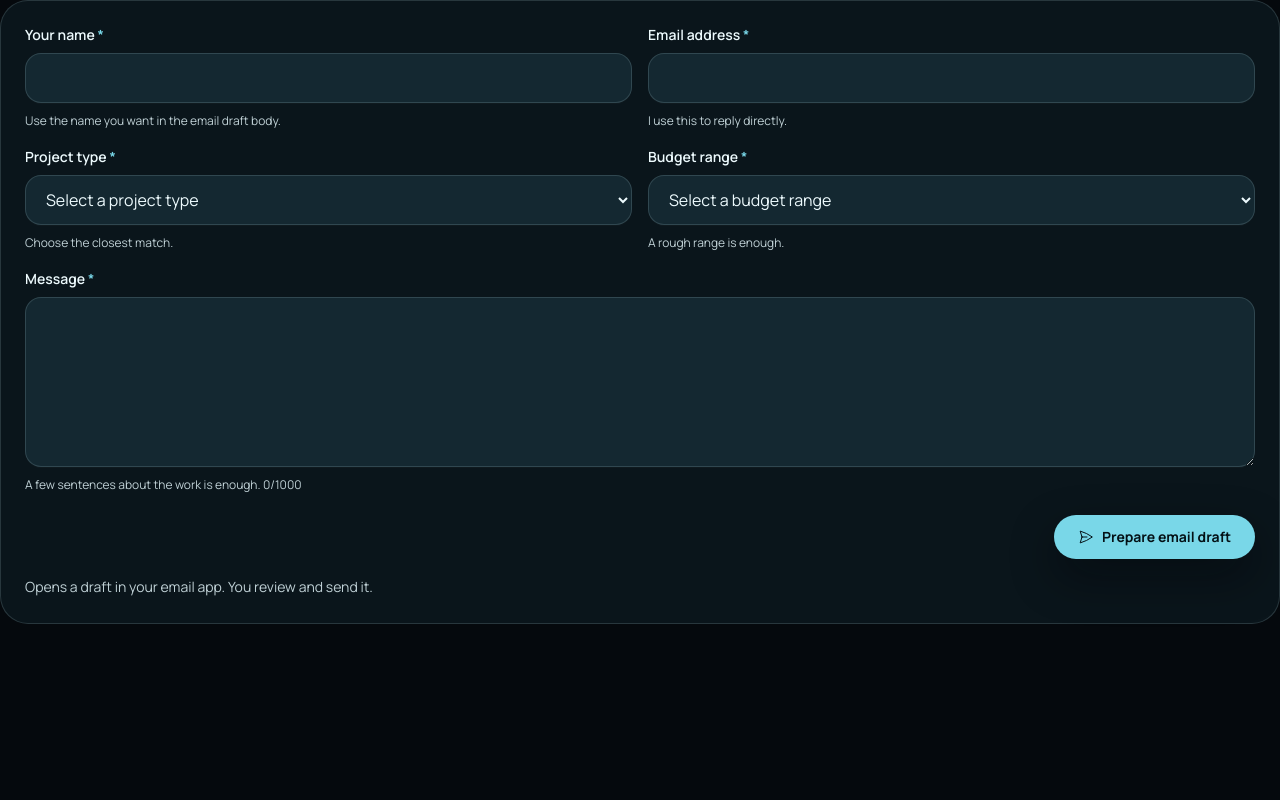
Test case: ContactComposer › clears the validation banner after the last invalid field is fixed
Submit the form
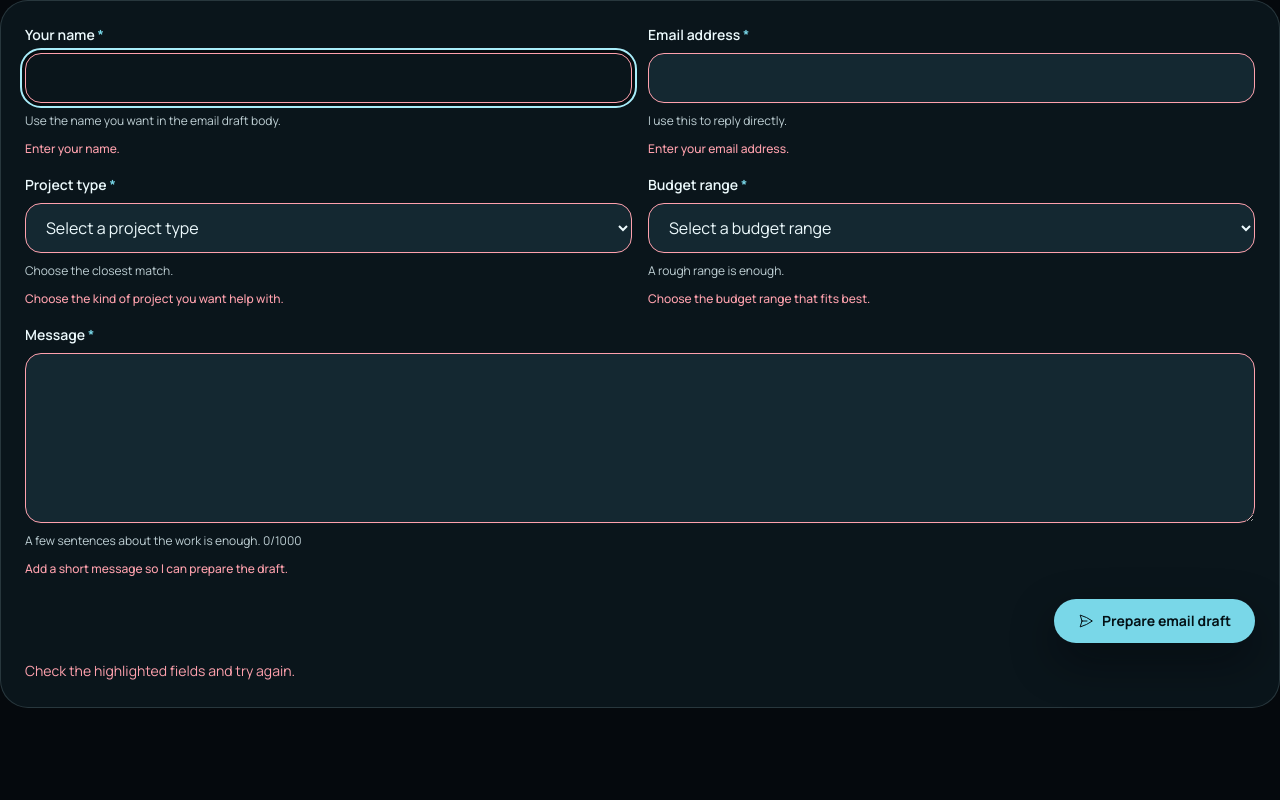
Result: the message shows "Check the highlighted fields" at [25, 661, 295, 680]
Type "Steve Example" into the field labelled "Your name *" at (328,78), box [25, 53, 632, 103]
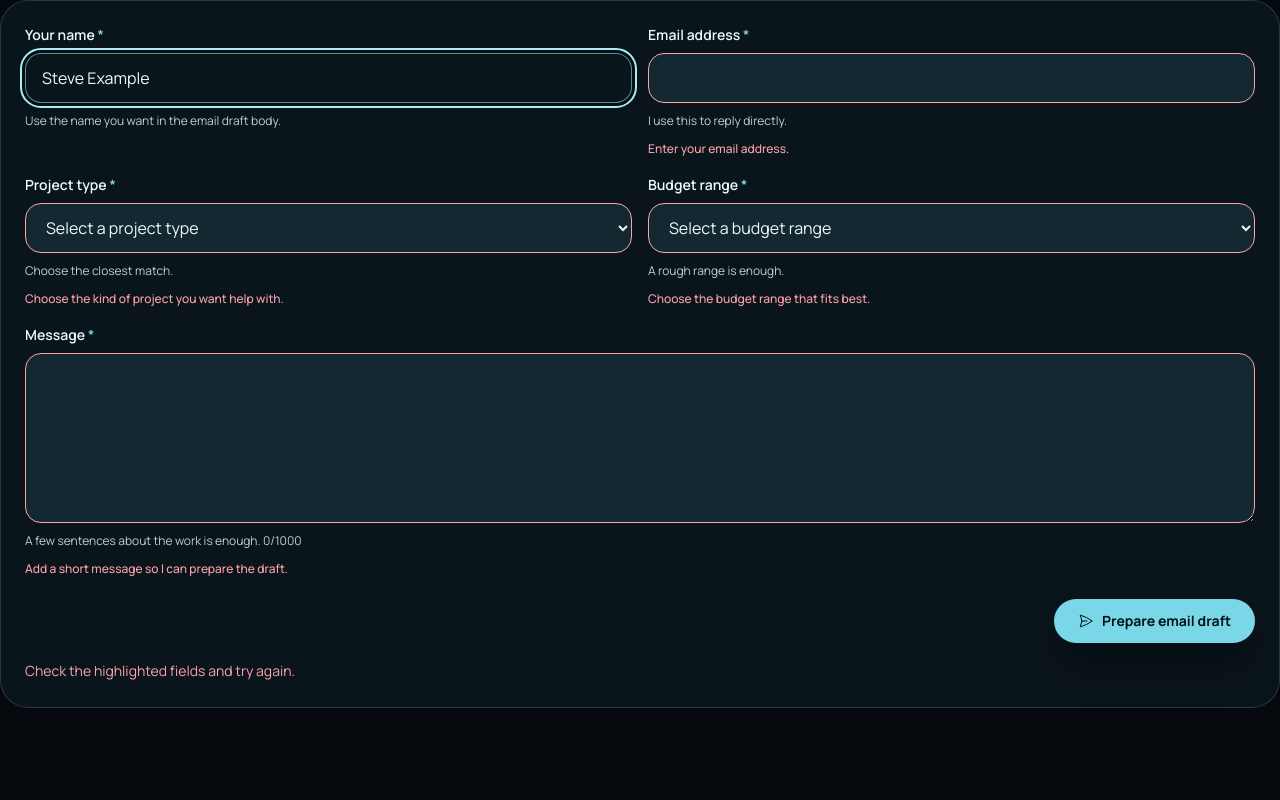
Type "steve@example.com" into the field labelled "Email address *" at (952,78), box [648, 53, 1255, 103]
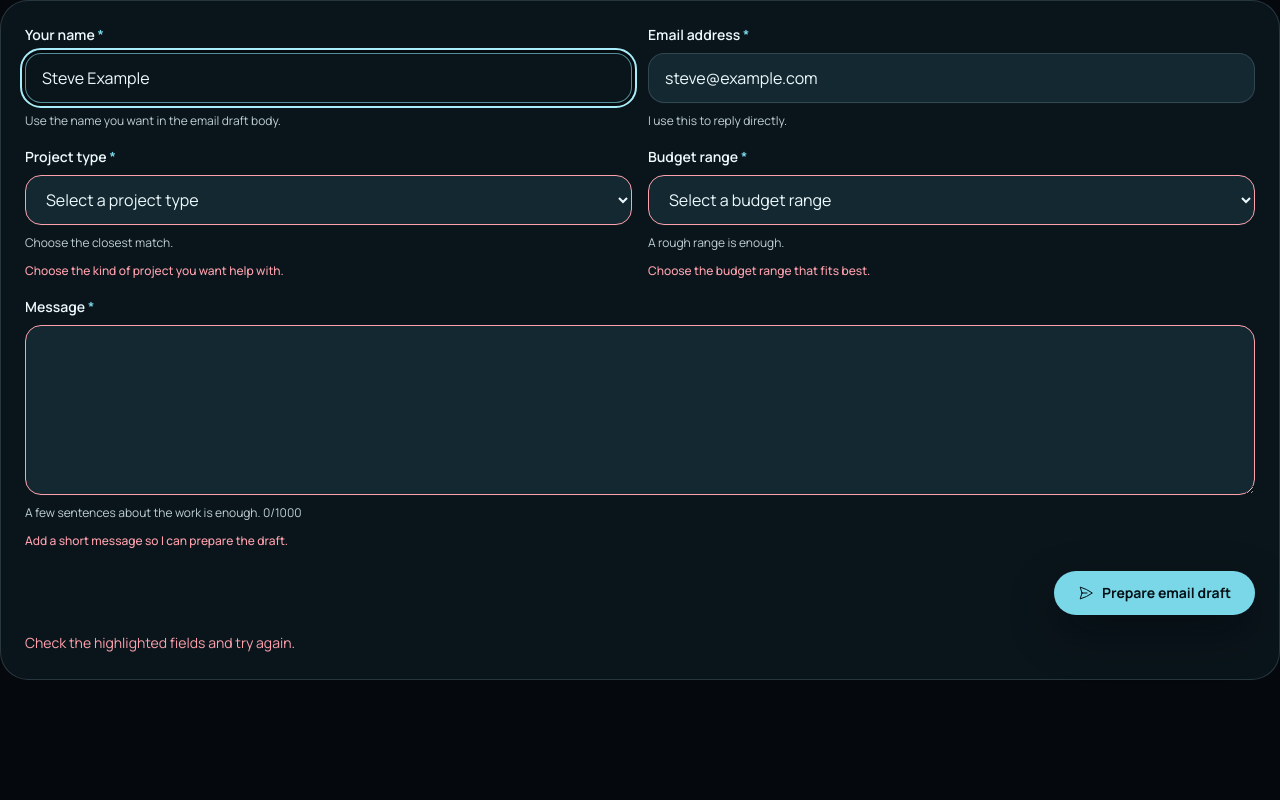
Select "New website" in the dropdown labelled "Project type *" at (328,200), box [25, 175, 632, 225]
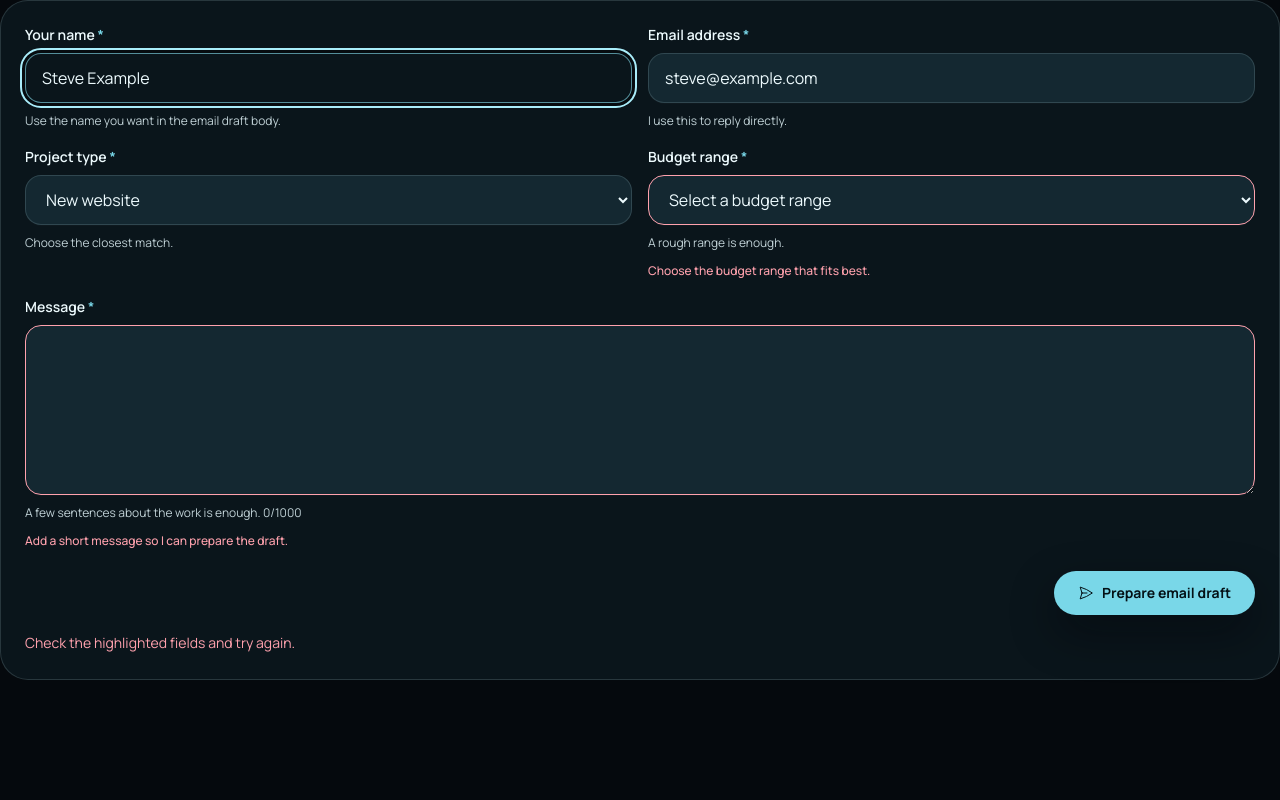
Select "$10k - $25k" in the dropdown labelled "Budget range *" at (952,200), box [648, 175, 1255, 225]
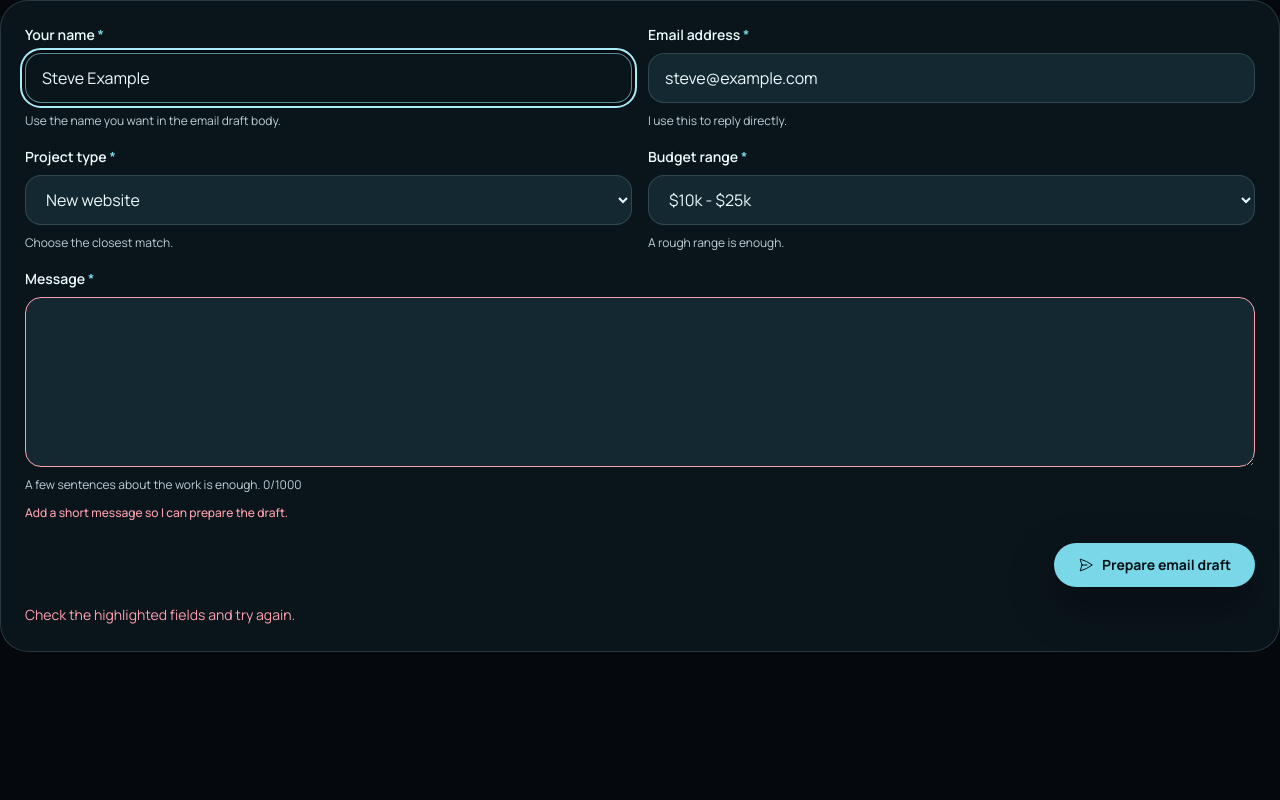
Type "This is a detailed enough project inquiry." into the text box labelled "Message *" at (640,382), box [25, 297, 1255, 467]
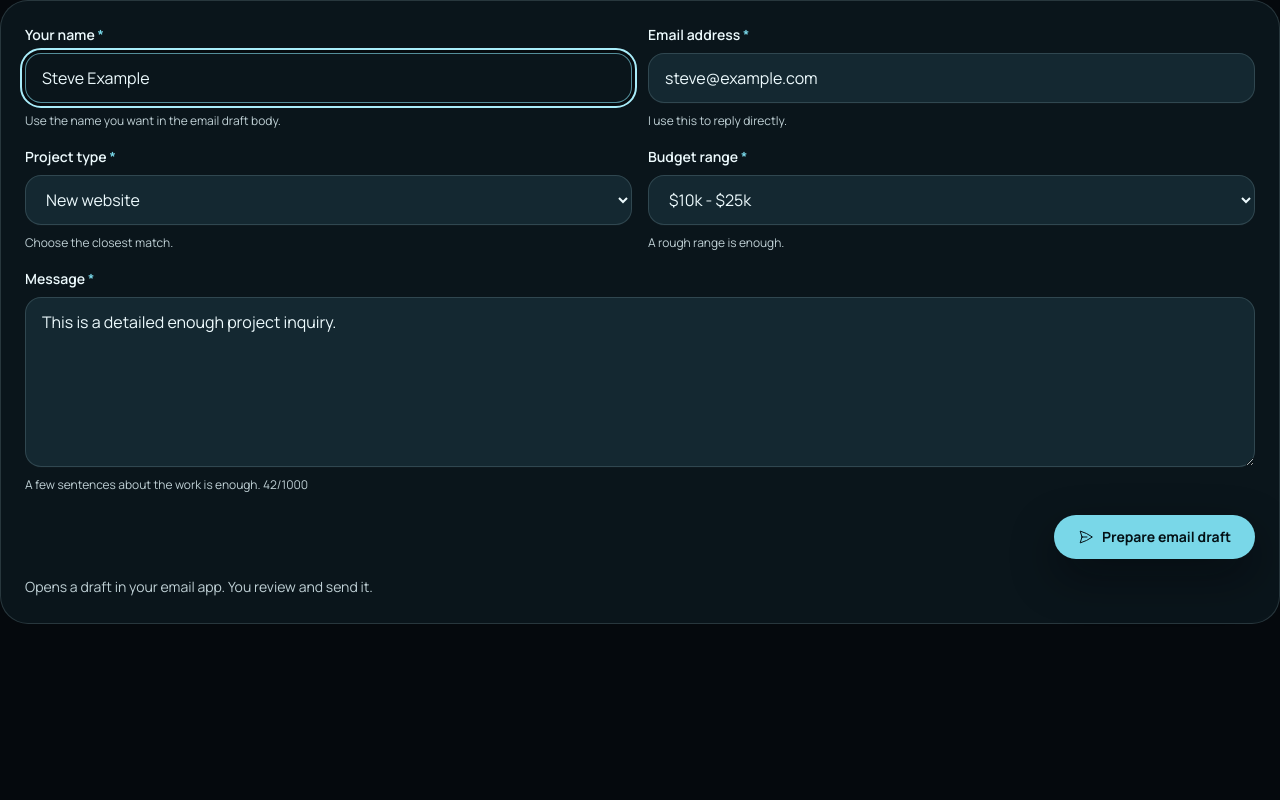
Result: the message reads "Opens a draft in your email app. You review and send it." at [25, 577, 373, 596]
